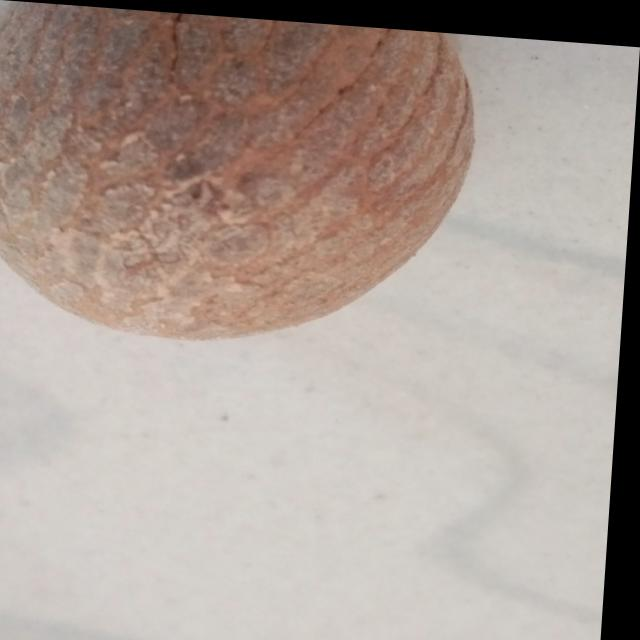good: (0, 0, 491, 375)
